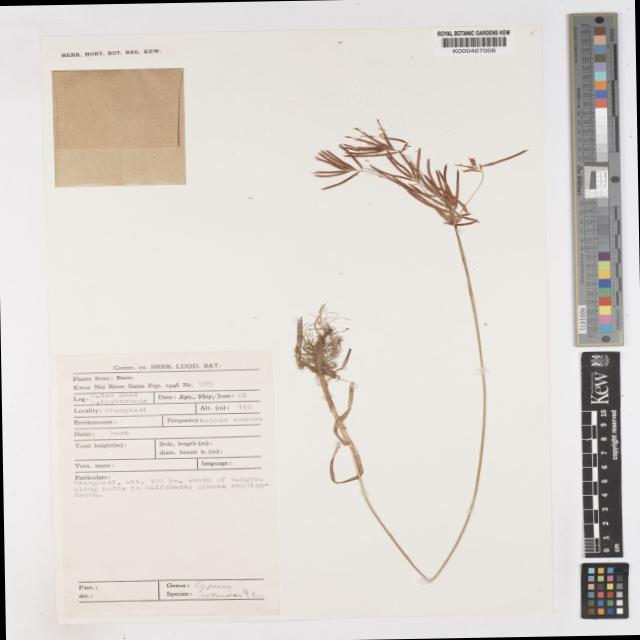cyperus: (301, 111, 530, 242)
